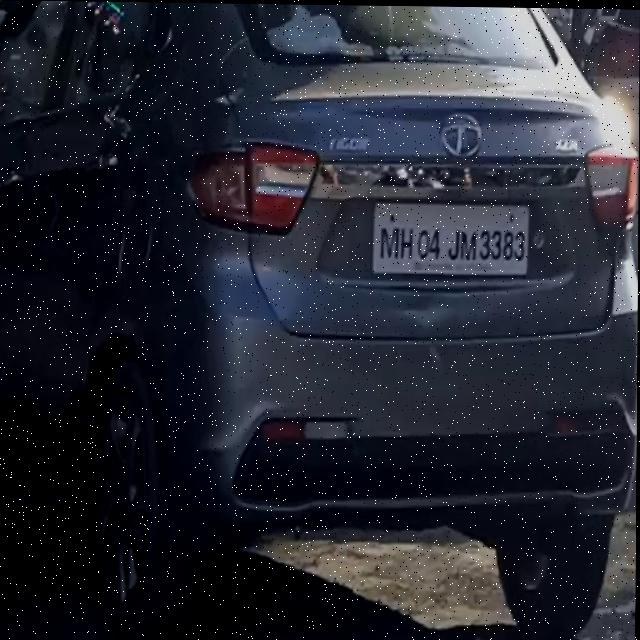plate: (371, 197, 531, 275)
